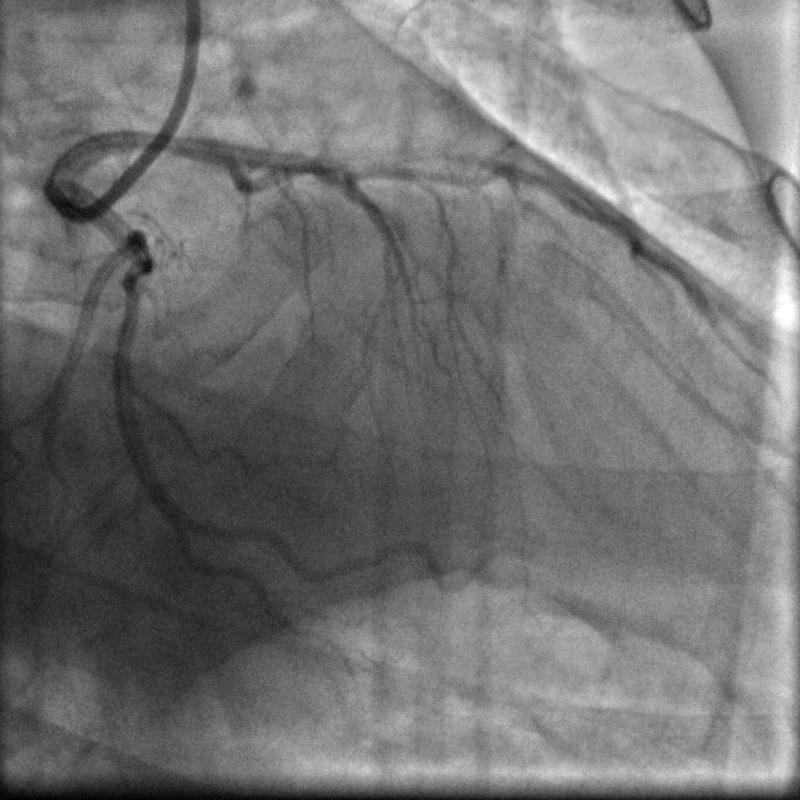Stenosis: (119, 249, 148, 310)
